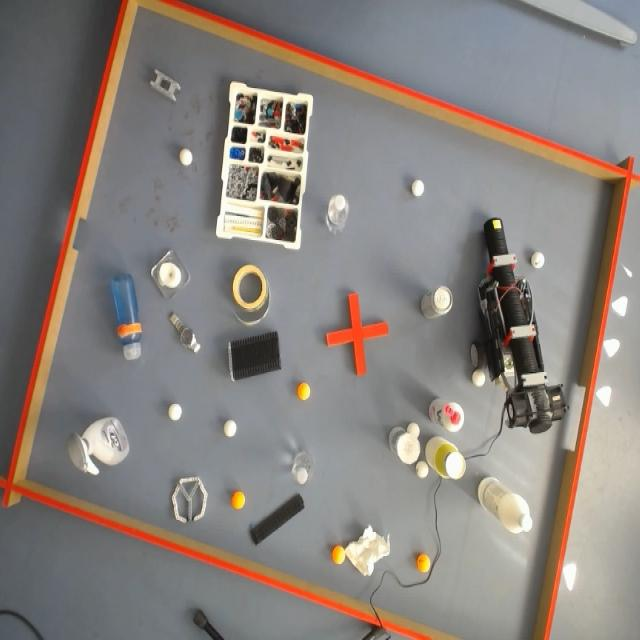orange: (416, 554, 432, 577), (295, 383, 312, 404), (230, 491, 246, 513), (332, 546, 344, 566)
robot: (472, 219, 569, 436)
robot-front: (485, 219, 507, 257)
white: (528, 248, 548, 276), (177, 146, 196, 170), (408, 178, 426, 202), (167, 403, 184, 426), (222, 419, 238, 442), (471, 368, 486, 390), (407, 418, 422, 438), (416, 462, 428, 482)
